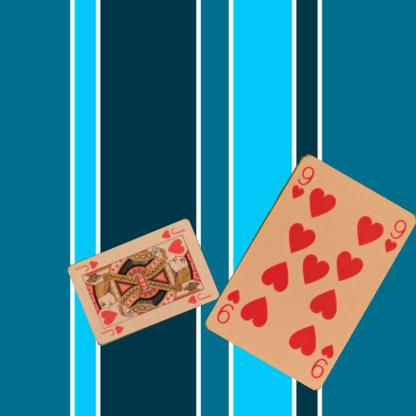9h: (288, 162, 316, 200), (307, 341, 335, 379)
Jh: (98, 323, 126, 337), (158, 226, 186, 240)
